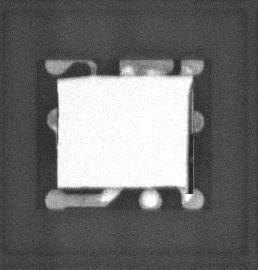DIE_BROKEN: (184, 87, 193, 196)
